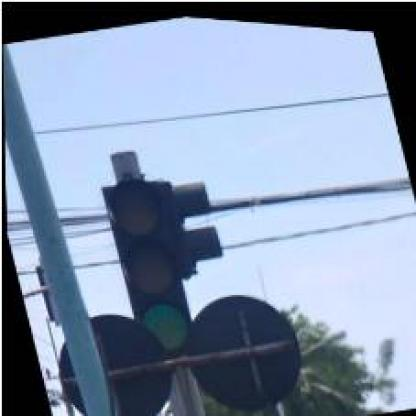green: (101, 174, 200, 361)
